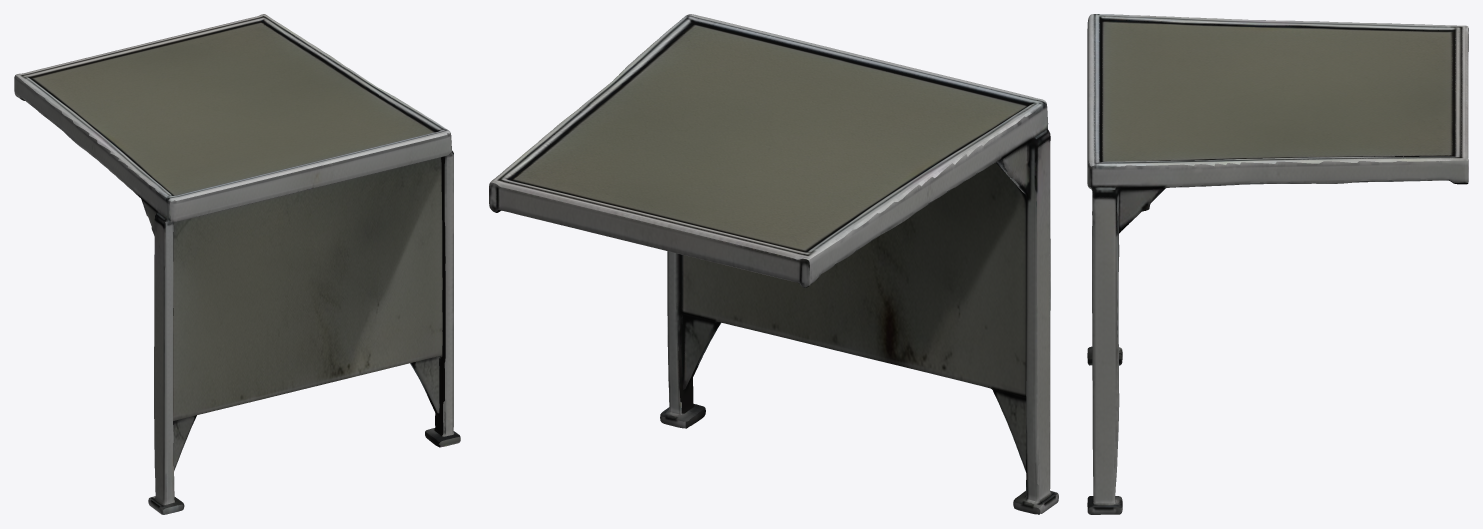
File: feature-loading-canopy.glb
3 views of the same model, side by side, from view 1: azimuth 30°, elevation 25°; view 2: azimuth 150°, elevation 25°; view 3: azimuth 270°, elevation 25° (orthographic). The views are drawn at different scales.
Visible parts, largest first — view 1: tmp30i0kpj1.ply; view 2: tmp30i0kpj1.ply; view 3: tmp30i0kpj1.ply.
Boxes of the visible parts, x1,y1,x2,y2 form: tmp30i0kpj1.ply: (14, 14, 460, 514); tmp30i0kpj1.ply: (489, 14, 1058, 514); tmp30i0kpj1.ply: (1087, 14, 1468, 514).
Bounding box in the file's own units: 1 × 1 × 1.
1 material, 1 textured.
